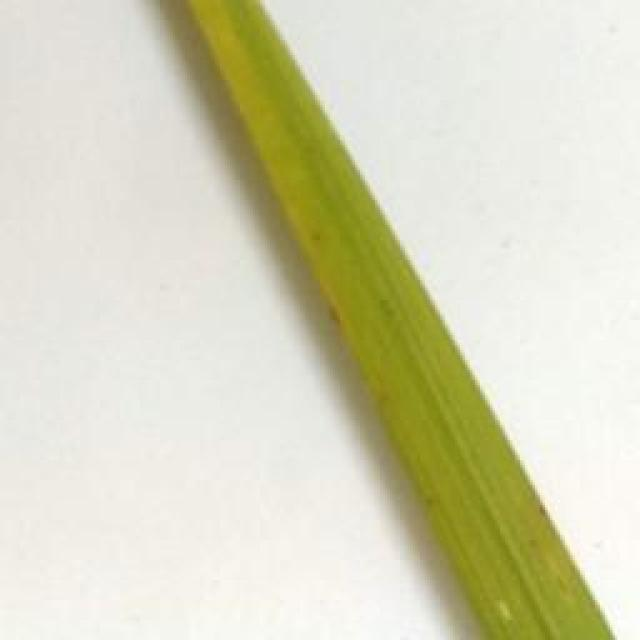Brown_Spot: (322, 301, 360, 335), (306, 225, 337, 253), (538, 496, 558, 519)
